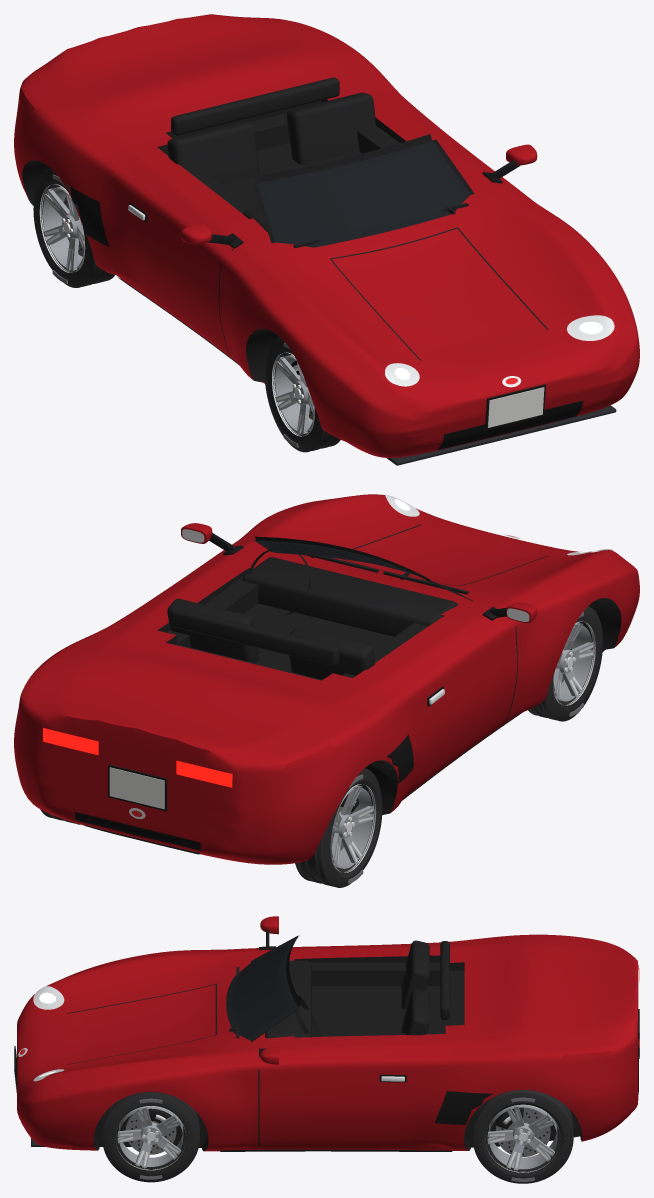
File: roadster08.glb
3 renders of one model, top to bottom at view 1: azimuth 30°, elevation 25°; view 2: azimuth 150°, elevation 25°; view 3: azimuth 270°, elevation 25°, orthographic. The views are drawn at different scales.
Visible parts, largest first — view 1: Body, Wheel_RR, Wheel_FR; view 2: Body, Wheel_RR, Wheel_FR; view 3: Body, Wheel_RL, Wheel_FL.
Boxes of the visible parts, <box> form: Body: <box>14,14,639,465</box>; Wheel_RR: <box>33,168,115,287</box>; Wheel_FR: <box>264,337,340,452</box>; Body: <box>14,494,639,864</box>; Wheel_RR: <box>295,768,382,887</box>; Wheel_FR: <box>528,606,602,721</box>; Body: <box>14,916,639,1151</box>; Wheel_RL: <box>472,1090,573,1183</box>; Wheel_FL: <box>102,1092,199,1182</box>.
Size of the model in its own units: 2.12 by 1.13 by 3.97.
